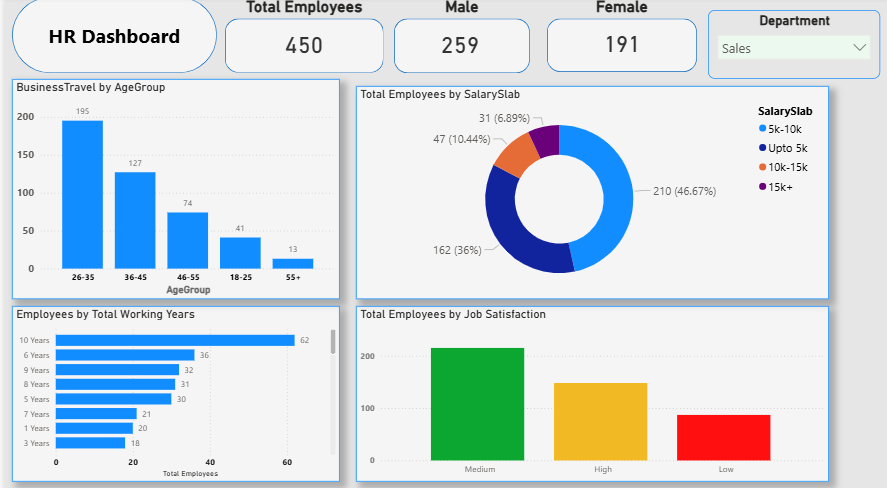

Layout of this report page (visuals, bound fields, positions):
{"tool":"powerbi","page":{"name":"Page 1","canvas":[1280,720],"ordinal":0},"visuals":[{"type":"shape","box":[10.1,0,295.1,109.6],"z":0},{"type":"shape","title":"Total Employees","box":[317.5,0,228.5,109.2],"z":1000},{"type":"shape","title":"Male","box":[559.9,0,195.6,109.6],"z":2000},{"type":"shape","title":"Female","box":[780.8,0,215.9,107.9],"z":3000},{"type":"advanceCardE03760C5AB684758B56AA29F9E6C257B","fields":{"mainMeasure":["HR_Analytics.Total Employees"]},"box":[317,30.4,227.7,79.3],"z":4000},{"type":"advanceCardE03760C5AB684758B56AA29F9E6C257B","fields":{"mainMeasure":["HR_Analytics.Total Employees"]},"box":[559.9,30.4,195.6,75.9],"z":5000},{"type":"advanceCardE03760C5AB684758B56AA29F9E6C257B","fields":{"mainMeasure":["HR_Analytics.Total Employees"]},"box":[780.8,30.4,215.9,75.9],"z":6000},{"type":"slicer","title":"Department","fields":{"Values":["HR_Analytics.Department"]},"box":[1011.9,18.6,247.9,99.5],"z":7000},{"type":"columnChart","title":"BusinessTravel by AgeGroup","fields":{"Category":["HR_Analytics.AgeGroup"],"Y":["CountNonNull(HR_Analytics.BusinessTravel)"]},"box":[10.1,118.1,472.2,317],"z":8000},{"type":"donutChart","fields":{"Y":["HR_Analytics.Total Employees"],"Category":["HR_Analytics.SalarySlab"]},"box":[505.9,128.2,681.3,306.9],"z":9000},{"type":"clusteredBarChart","title":" Employees by Total Working Years","fields":{"Y":["HR_Analytics.Total Employees"],"Category":["HR_Analytics.Total Expirience"]},"box":[10.1,445,472.3,253.4],"z":10000},{"type":"clusteredColumnChart","fields":{"Category":["HR_Analytics.Job Satisfaction"],"Y":["HR_Analytics.Total Employees"]},"box":[505.4,445,681.1,253.4],"z":11000}]}

Visuals, with their boxes in screenshot pixels (x1, y1, x2, y2), scaled from the page's 1280x720 canvas onto the 887x488 screenshot:
shape: (x1=7, y1=0, x2=211, y2=74)
"Total Employees" shape: (x1=220, y1=0, x2=378, y2=74)
"Male" shape: (x1=388, y1=0, x2=524, y2=74)
"Female" shape: (x1=541, y1=0, x2=691, y2=73)
advanceCardE03760C5AB684758B56AA29F9E6C257B - HR_Analytics.Total Employees: (x1=220, y1=21, x2=377, y2=74)
advanceCardE03760C5AB684758B56AA29F9E6C257B - HR_Analytics.Total Employees: (x1=388, y1=21, x2=524, y2=72)
advanceCardE03760C5AB684758B56AA29F9E6C257B - HR_Analytics.Total Employees: (x1=541, y1=21, x2=691, y2=72)
"Department" slicer: (x1=701, y1=13, x2=873, y2=80)
"BusinessTravel by AgeGroup" columnChart: (x1=7, y1=80, x2=334, y2=295)
donutChart - HR_Analytics.Total Employees x HR_Analytics.SalarySlab: (x1=351, y1=87, x2=823, y2=295)
" Employees by Total Working Years" clusteredBarChart: (x1=7, y1=302, x2=334, y2=473)
clusteredColumnChart - HR_Analytics.Job Satisfaction x HR_Analytics.Total Employees: (x1=350, y1=302, x2=822, y2=473)
